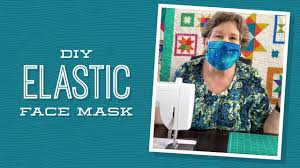masked: (203, 12, 245, 69)
